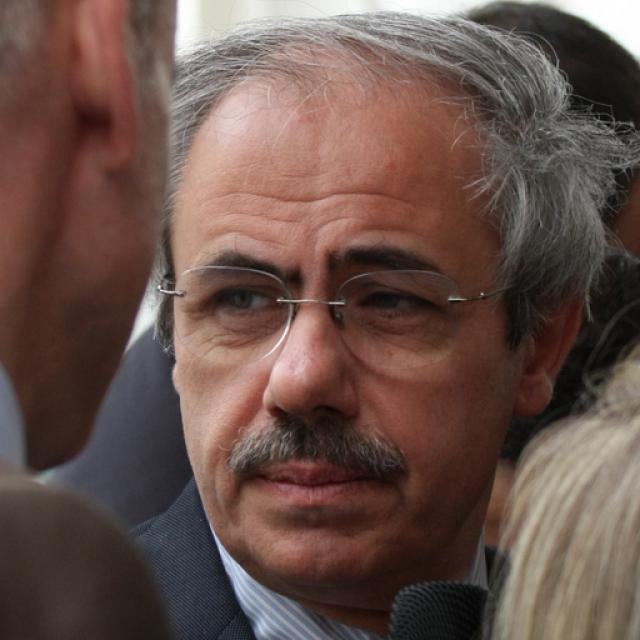0_rostro_limpio: (173, 26, 580, 589)
